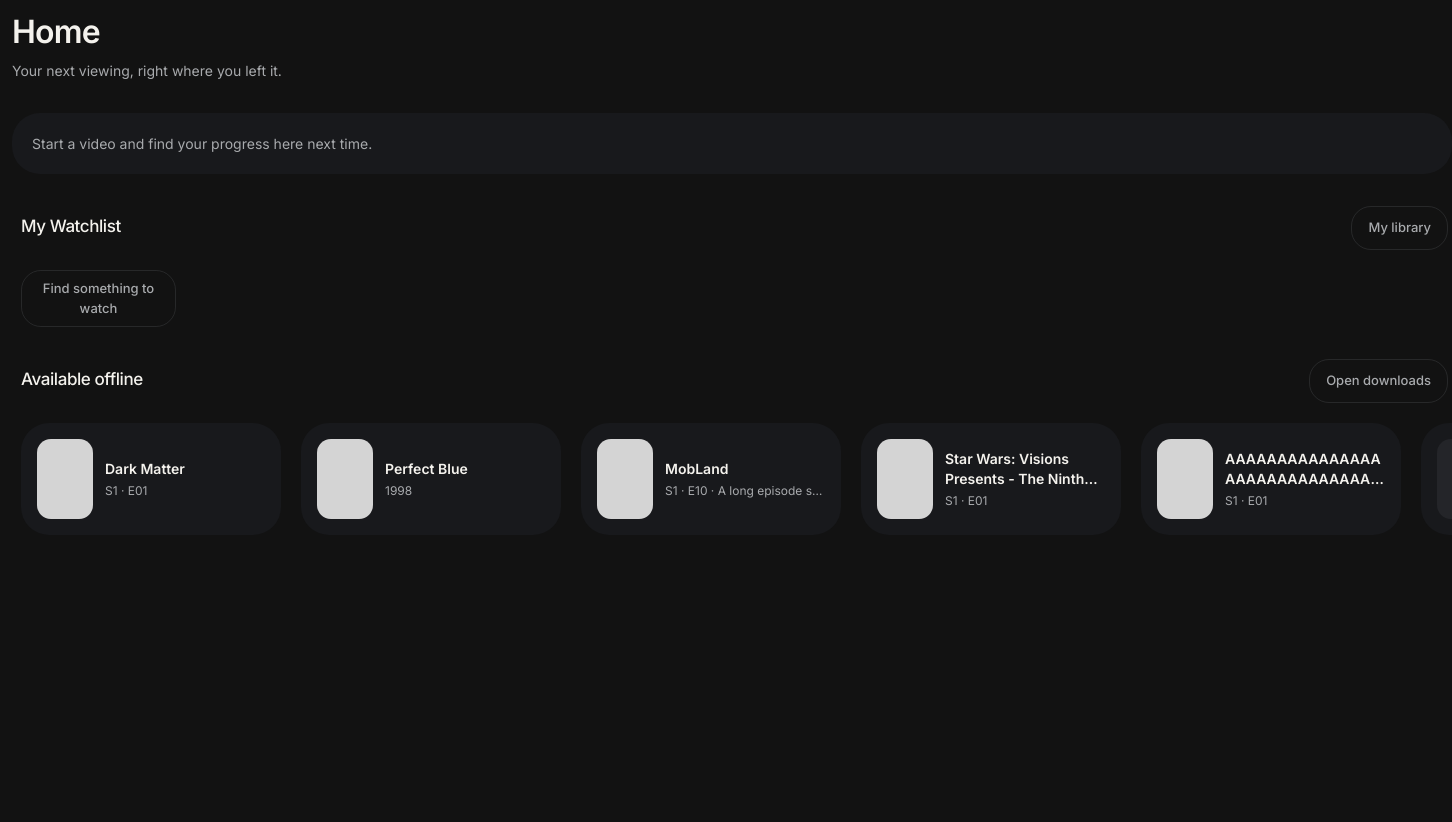
it: keeps invalid offline files out of the player and announces the problem
The width and height of the screenshot is (1452, 822).
What coordinates should you click on to do the following:
click the button "Dark Matter S1 · E01"
I would click on:
 (151, 479)
Its box is [21,423,281,535].
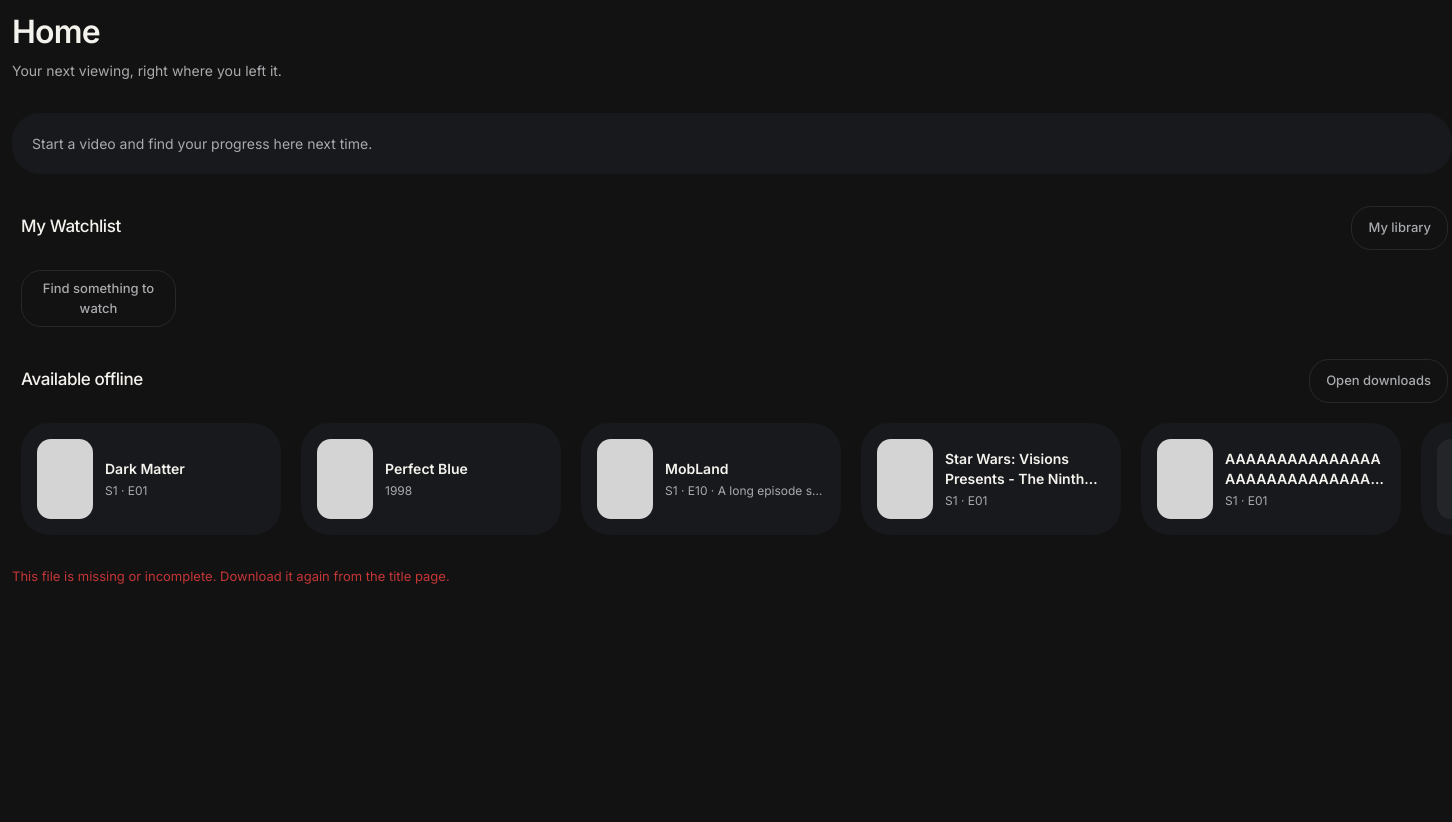
Expected: the message "This file is missing or incomplete. Download it again from the title page." is shown, [12,568,450,584]
